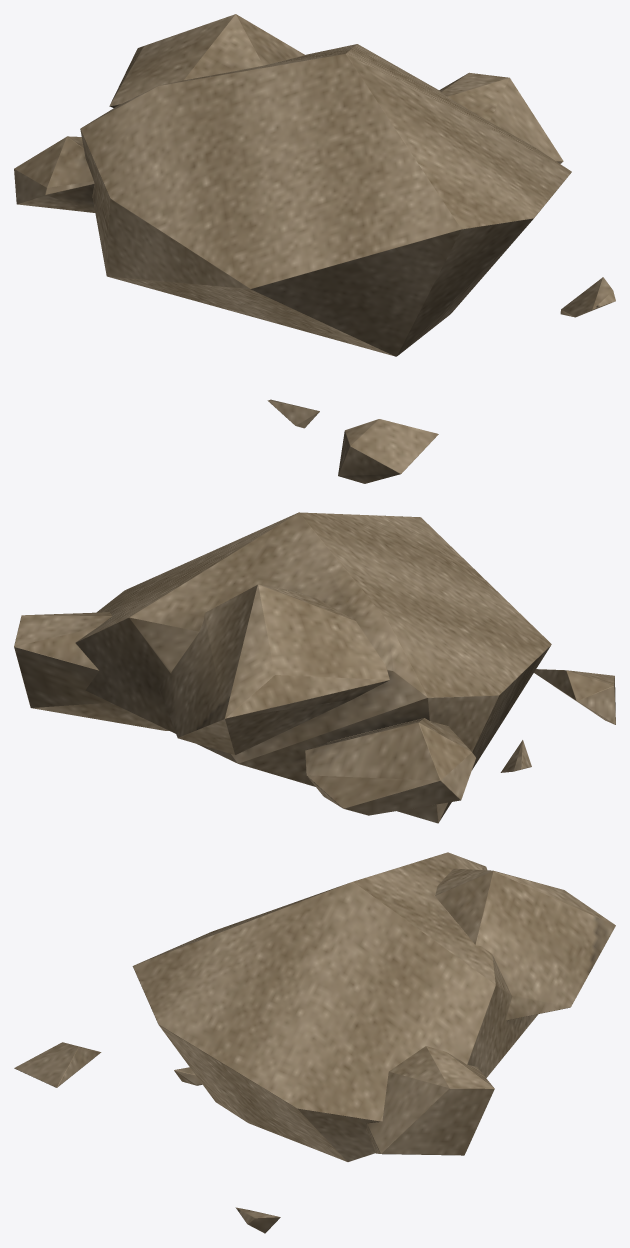
File: boulder_6.glb
3 views of the same model, one above another, from view 1: azimuth 30°, elevation 25°; view 2: azimuth 150°, elevation 25°; view 3: azimuth 270°, elevation 25° (orthographic). The views are drawn at different scales.
Visible parts, largest first — view 1: boulder_6_c0; view 2: boulder_6_c0; view 3: boulder_6_c0.
Part boxes in pixels (box(x1,y1,x2,y2)): boulder_6_c0: box(14, 14, 615, 483); boulder_6_c0: box(14, 512, 615, 823); boulder_6_c0: box(14, 852, 615, 1233).
Size of the model in its own units: 2.16 by 1.22 by 2.52.
Materials: 1 (1 with a texture image).
